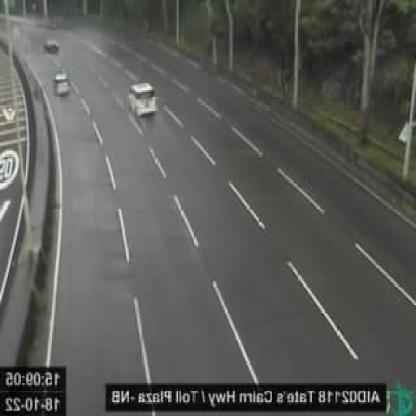Car: (125, 80, 158, 118), (51, 70, 70, 96), (44, 38, 59, 53)
